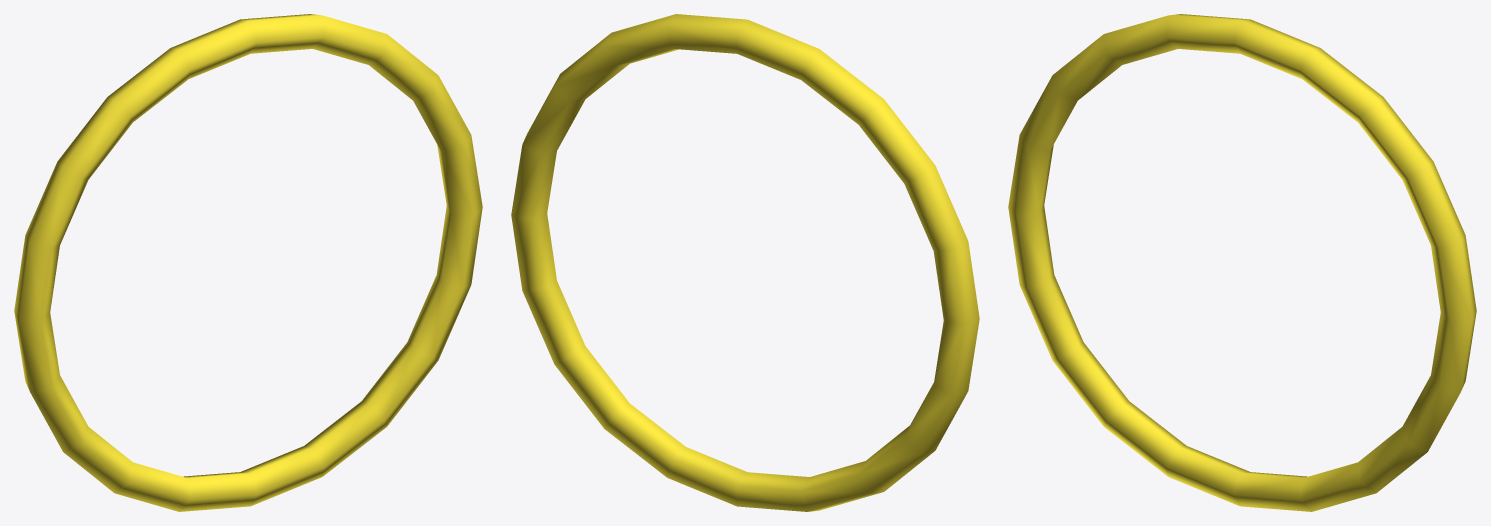
The model's file is 5jiuuz7sOV_.glb.
The picture shows the model from 3 angles, left to right: view 1: azimuth 30°, elevation 25°; view 2: azimuth 150°, elevation 25°; view 3: azimuth 330°, elevation 25°; orthographic projection.
Parts seen in each view (by area): view 1: pTorus1; view 2: pTorus1; view 3: pTorus1.
Boxes of the visible parts, x1,y1,x2,y2 form: pTorus1: (14, 14, 482, 511); pTorus1: (511, 14, 979, 511); pTorus1: (1008, 14, 1476, 511).
Bounding box in the file's own units: 1 × 1 × 0.0642.
